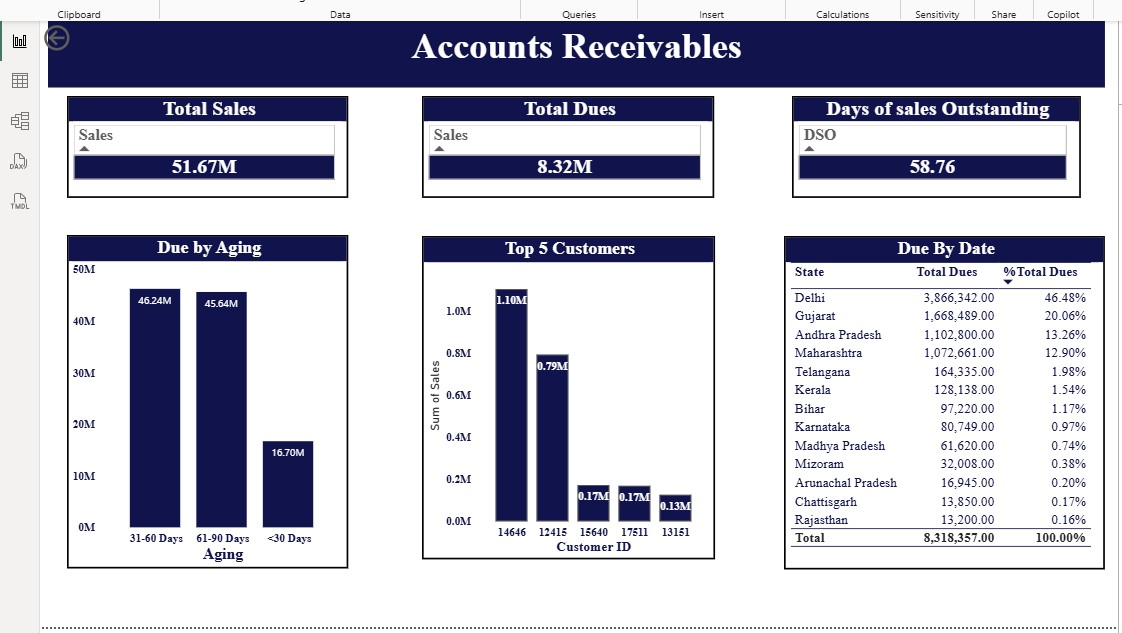

Layout of this report page (visuals, bound fields, positions):
{"tool":"powerbi","page":{"name":"Accounts Receivables","canvas":[1280,720],"ordinal":0},"visuals":[{"type":"textbox","box":[9.5,0,1255,78.5],"z":0},{"type":"textbox","box":[9.5,179.6,13.1,149.9],"z":1000},{"type":"tableEx","title":"Total Sales","fields":{"Values":["Sum(Datatbl.Sales)"]},"box":[32.1,89.2,334.3,121.3],"z":2000},{"type":"actionButton","box":[0,0,100,40],"z":3000},{"type":"tableEx","title":"Total Dues","fields":{"Values":["Sum(Datatbl.Sales)"]},"box":[453.2,89.2,347.4,121.3],"z":4000},{"type":"tableEx","title":"Days of sales Outstanding","fields":{"Values":["Datatbl.DSO"]},"box":[893.4,89.2,342.6,121.3],"z":5000},{"type":"columnChart","title":"Due by Aging","fields":{"Category":["Datatbl.Aging"],"Y":["Sum(Datatbl.Sales)"]},"box":[32.1,254.6,334.3,396.1],"z":6000},{"type":"columnChart","title":"Top 5 Customers","fields":{"Category":["Datatbl.CustomerID"],"Y":["Sum(Datatbl.Sales)"]},"box":[453.8,255,347.5,383.8],"z":6001},{"type":"tableEx","title":"Due By Date","fields":{"Values":["Datatbl.State","Sum(Datatbl.Sales)","Divide(Sum(Datatbl.Sales), ScopedEval(Sum(Datatbl.Sales), []))"]},"box":[883.8,255,381.2,396.2],"z":6002}]}

Visuals, with their boxes in screenshot pixels (x1, y1, x2, y2):
textbox: 52:18:1098:83
textbox: 52:167:63:292
"Total Sales" tableEx: 71:92:349:193
actionButton: 44:18:127:51
"Total Dues" tableEx: 422:92:711:193
"Days of sales Outstanding" tableEx: 789:92:1074:193
"Due by Aging" columnChart: 71:230:349:560
"Top 5 Customers" columnChart: 422:230:712:550
"Due By Date" tableEx: 781:230:1099:561
